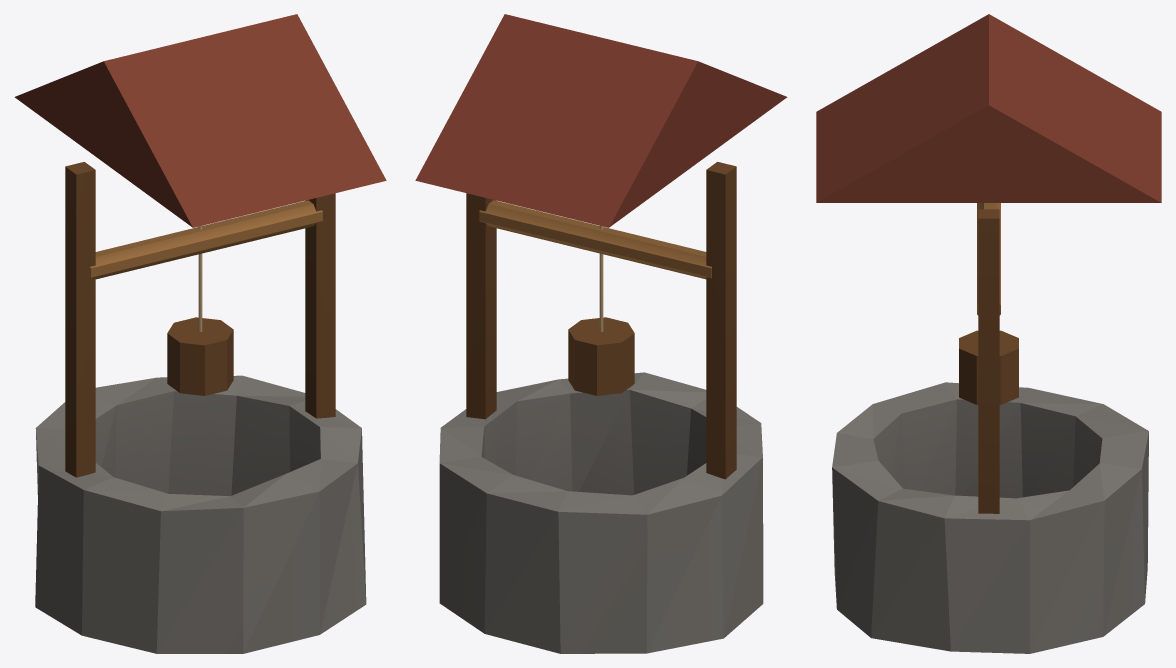
Rendered from well.glb.
3 views of the same model, side by side, from view 1: azimuth 30°, elevation 25°; view 2: azimuth 150°, elevation 25°; view 3: azimuth 270°, elevation 25° (orthographic). The views are drawn at different scales.
Parts seen in each view (by area): view 1: well; view 2: well; view 3: well.
Part boxes in pixels (box(x1,y1,x2,y2)): well: box(14, 14, 386, 653); well: box(415, 14, 787, 653); well: box(816, 14, 1161, 653).
Size of the model in its own units: 1.48 by 2.72 by 1.6.
